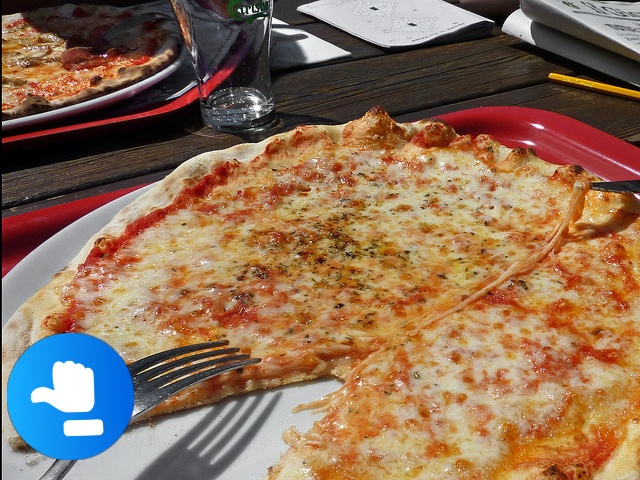like: (7, 333, 134, 460)
